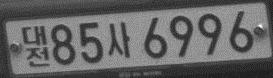5: (78, 21, 103, 64)
6: (228, 10, 254, 53), (142, 16, 167, 59)
8: (50, 23, 76, 65)
9: (168, 15, 193, 57), (197, 13, 222, 55)
대전_V: (20, 24, 50, 67)
사: (107, 21, 132, 59)
